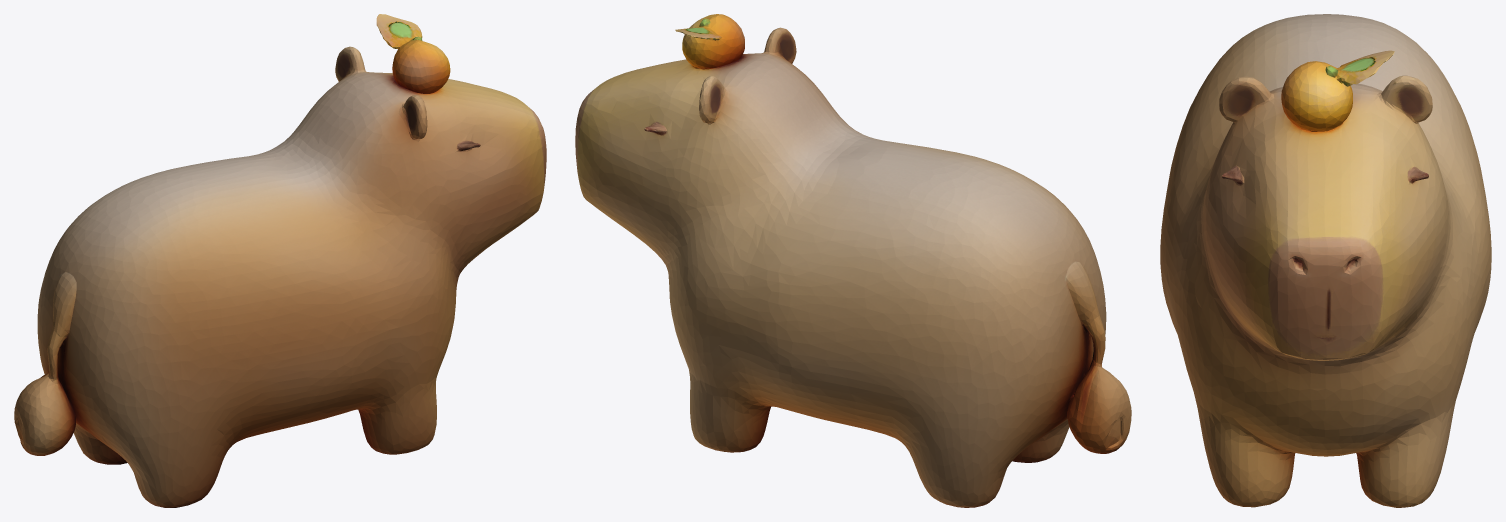
The model's file is capybara.glb.
The picture shows the model from 3 angles, left to right: view 1: azimuth 30°, elevation 25°; view 2: azimuth 150°, elevation 25°; view 3: azimuth 270°, elevation 25°; orthographic projection. The views are drawn at different scales.
Parts seen in each view (by area): view 1: world; view 2: world; view 3: world.
Part boxes in pixels (bbox=[...]): world: bbox=[14, 14, 546, 507]; world: bbox=[575, 14, 1131, 507]; world: bbox=[1160, 14, 1491, 507].
Bounding box in the file's own units: 0.999 × 0.7072 × 0.4565.
1 material, 1 textured.
